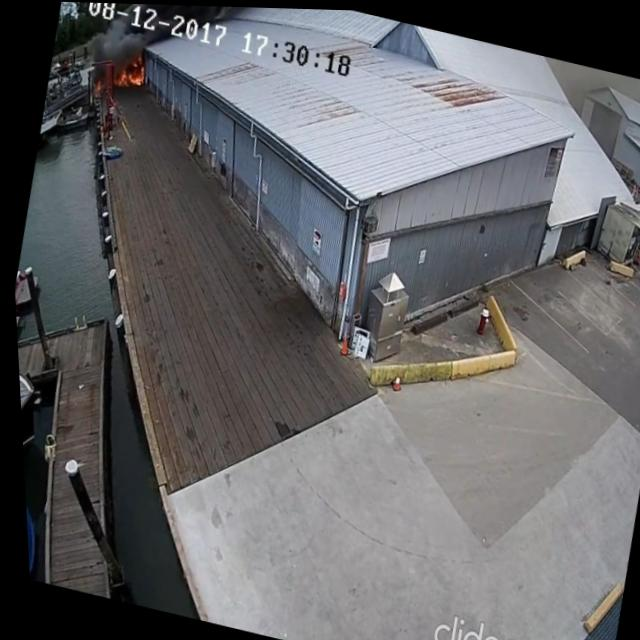fire: (109, 50, 149, 92)
